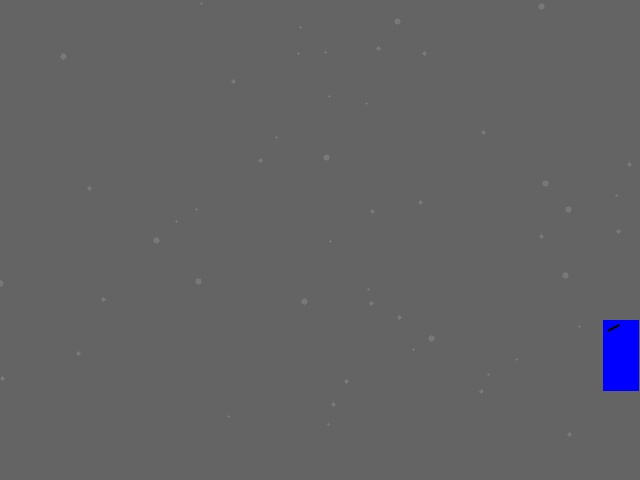motorcycle: (603, 320, 638, 390)
